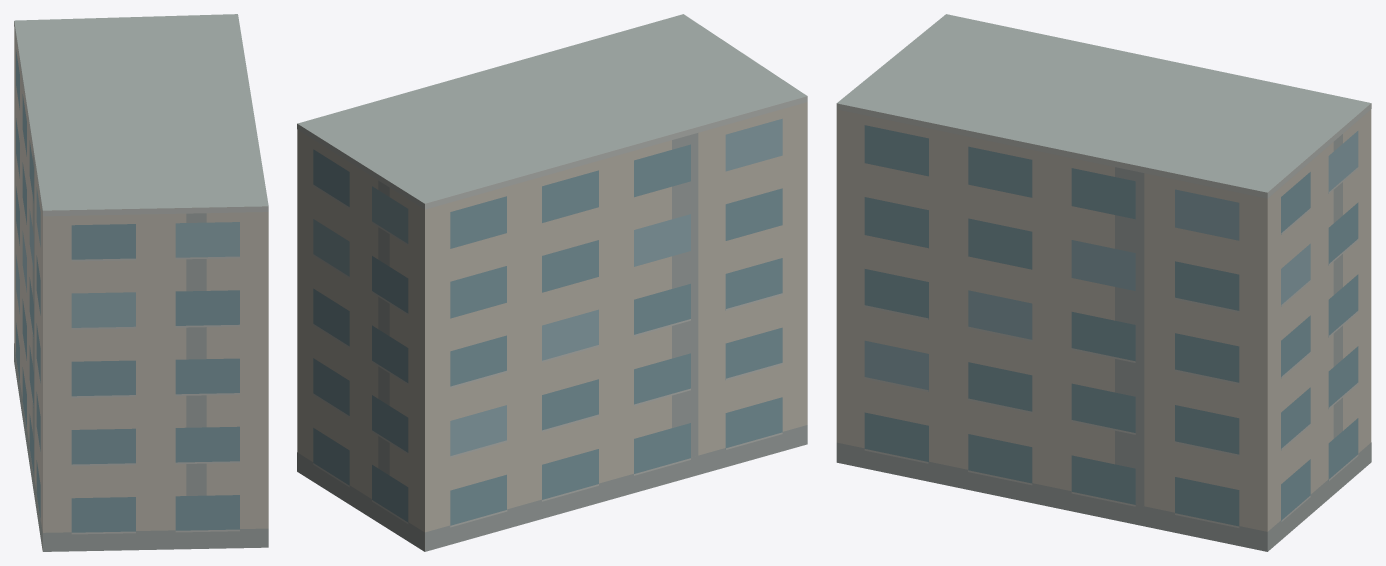
Rendered from survey-upis-33010056.glb.
3 views of the same model, side by side, from view 1: azimuth 30°, elevation 25°; view 2: azimuth 150°, elevation 25°; view 3: azimuth 270°, elevation 25° (orthographic). The views are drawn at different scales.
Visible parts, largest first — view 1: survey-upis-33010056.tmp; view 2: survey-upis-33010056.tmp; view 3: survey-upis-33010056.tmp.
Part boxes in pixels (bbox=[...]): survey-upis-33010056.tmp: bbox=[14, 14, 268, 551]; survey-upis-33010056.tmp: bbox=[297, 14, 807, 551]; survey-upis-33010056.tmp: bbox=[836, 14, 1371, 551].
Size of the model in its own units: 15.53 by 14.55 by 19.64.
